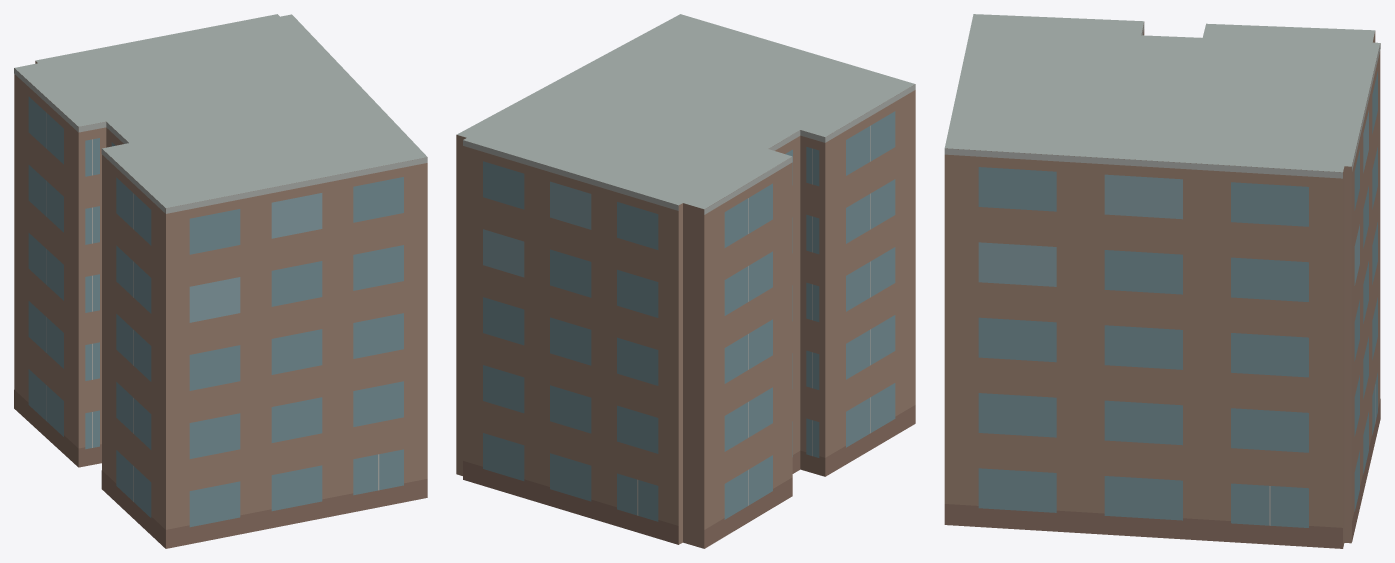
File: survey-upis-32681516.glb
3 renders of one model, left to right at view 1: azimuth 30°, elevation 25°; view 2: azimuth 150°, elevation 25°; view 3: azimuth 270°, elevation 25°, orthographic. The views are drawn at different scales.
Parts seen in each view (by area): view 1: survey-upis-32681516.tmp; view 2: survey-upis-32681516.tmp; view 3: survey-upis-32681516.tmp.
Part boxes in pixels (x1,y1,x2,y2): survey-upis-32681516.tmp: (14, 14, 427, 548); survey-upis-32681516.tmp: (456, 14, 915, 548); survey-upis-32681516.tmp: (944, 14, 1380, 548).
Size of the model in its own units: 13.08 by 14.5 by 15.21.
